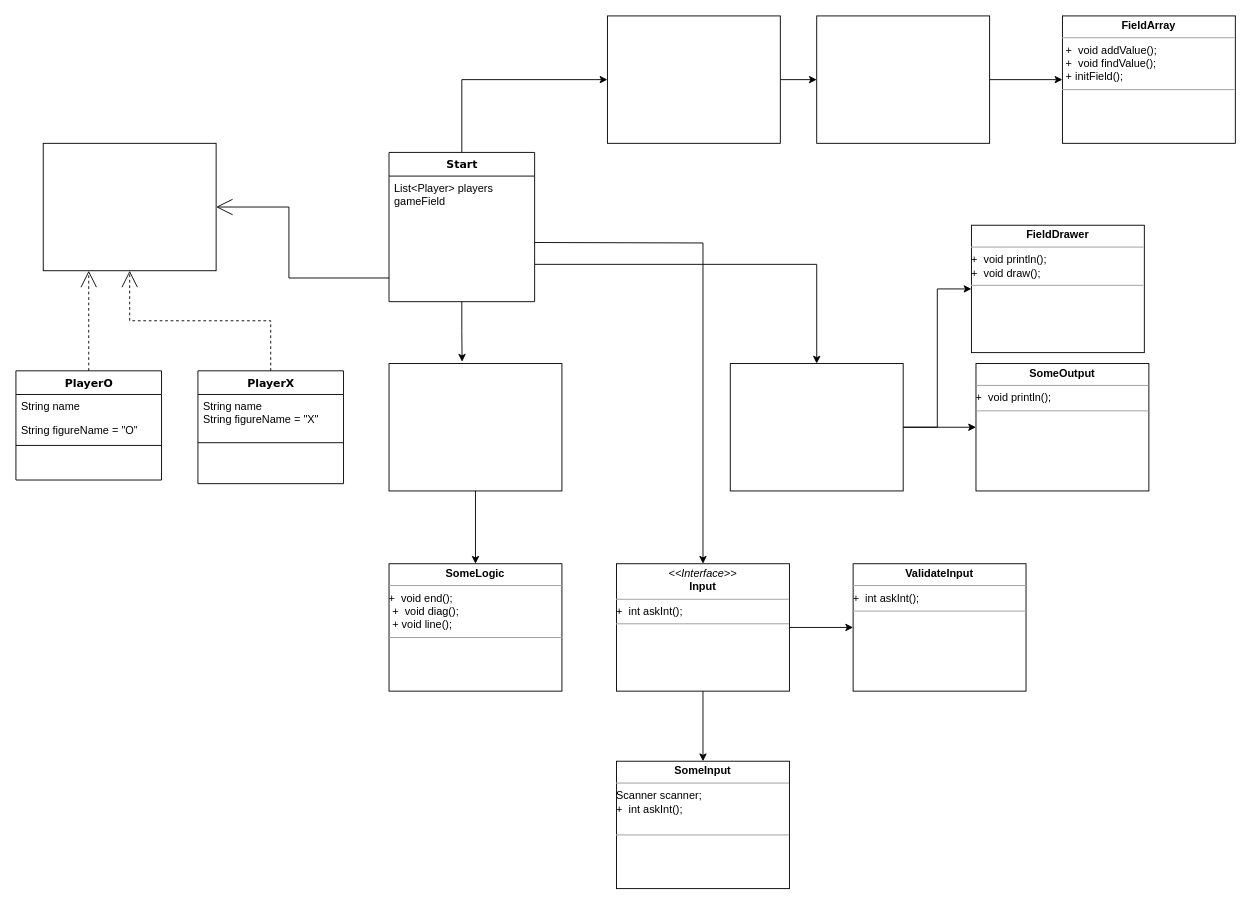
The diagram is 1251 pixels wide and 905 high, and some of its shapes have lost their labels. The shapes that lost their labels are listed below. From the top down, each one's centre as x and y in pixels, then its label:
pixel 693 79: <<Interface>> CellField + void addValue(); + void findValue();
pixel 903 79: <<Interface>> Field + initField();
pixel 129 206: <<Interface>> Player + String name + String figureName
pixel 475 427: <<Interface>> Logic + void end(); + void diag(); + void line();
pixel 816 427: <<Interface>> Output + void println();
